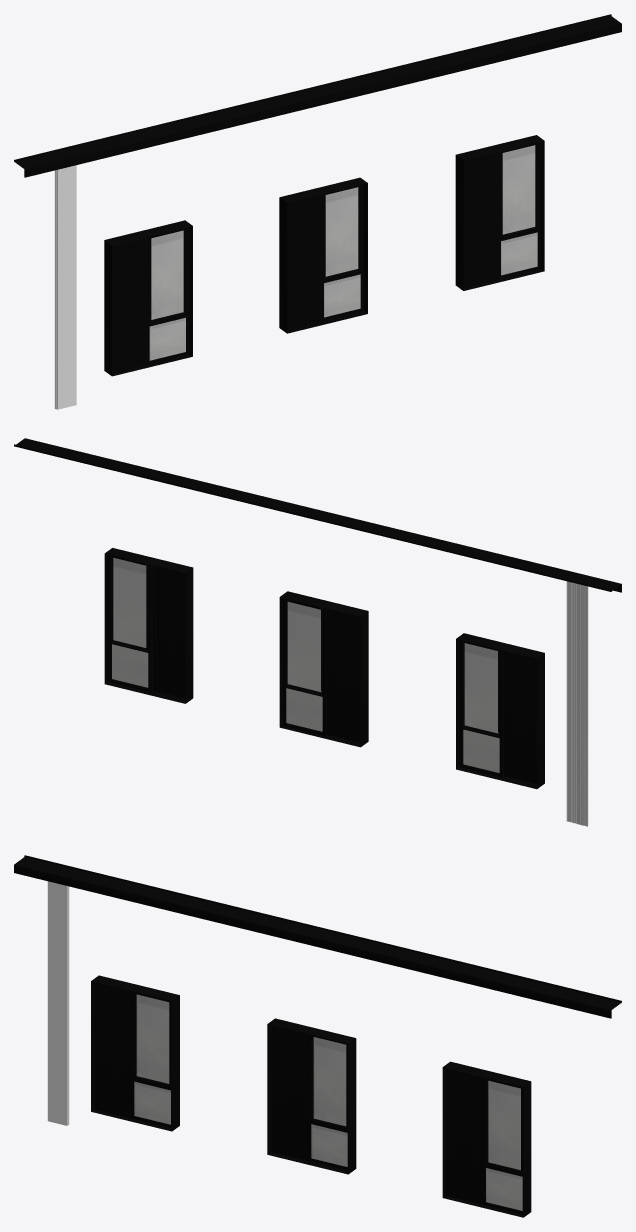
File: MatrixFachada.glb
The picture shows the model from 3 angles, top to bottom: view 1: azimuth 30°, elevation 25°; view 2: azimuth 150°, elevation 25°; view 3: azimuth 330°, elevation 25°; orthographic projection.
Visible parts, largest first — view 1: Box006, Ventana3, Ventana1, Ventana2, Lamas3, Lamas1, Lamas2, matriz2_j, Marco3, Marco2, Marco1, matriz2_i; view 2: Box006, Ventana2, Ventana3, Ventana1, Lamas2, Lamas1, Lamas3, Marco3, Marco2, Marco1, matriz2_e, matriz2_c (+6 smaller); view 3: Box006, Ventana1, Ventana3, Ventana2, Lamas1, Lamas2, Lamas3, matriz2_j, Marco2, matriz2_l, Marco3, Marco1 (+2 smaller).
Boxes of the visible parts, x1,y1,x2,y2 form: Box006: (14,14,621,177); Ventana3: (498,142,540,279); Ventana1: (147,227,189,364); Ventana2: (321,185,363,321); Lamas3: (464,152,498,287); Lamas1: (112,237,146,372); Lamas2: (288,195,321,329); matriz2_j: (58,165,76,409); Marco3: (455,135,544,290); Marco2: (279,177,367,333); Marco1: (104,220,192,376); matriz2_i: (58,168,66,408); Box006: (14,438,621,592); Ventana2: (283,598,327,735); Ventana3: (108,554,152,691); Ventana1: (460,640,504,777); Lamas2: (327,608,360,742); Lamas1: (504,650,536,783); Lamas3: (153,565,185,698); Marco3: (104,548,193,703); Marco2: (279,591,368,747); Marco1: (456,633,544,789); matriz2_e: (571,582,577,823); matriz2_c: (567,581,577,822); Box006: (14,855,621,1018); Ventana1: (131,991,171,1127); Ventana3: (482,1077,522,1214); Ventana2: (308,1034,347,1170); Lamas1: (94,982,131,1118); Lamas2: (271,1025,308,1160); Lamas3: (446,1068,482,1204); matriz2_j: (48,882,68,1125); Marco2: (267,1018,356,1174); matriz2_l: (48,882,62,1124); Marco3: (442,1061,531,1217); Marco1: (91,975,179,1131).
Size of the model in its own units: 9 by 3.61 by 0.4186.
Materials: 5 (1 with a texture image).
